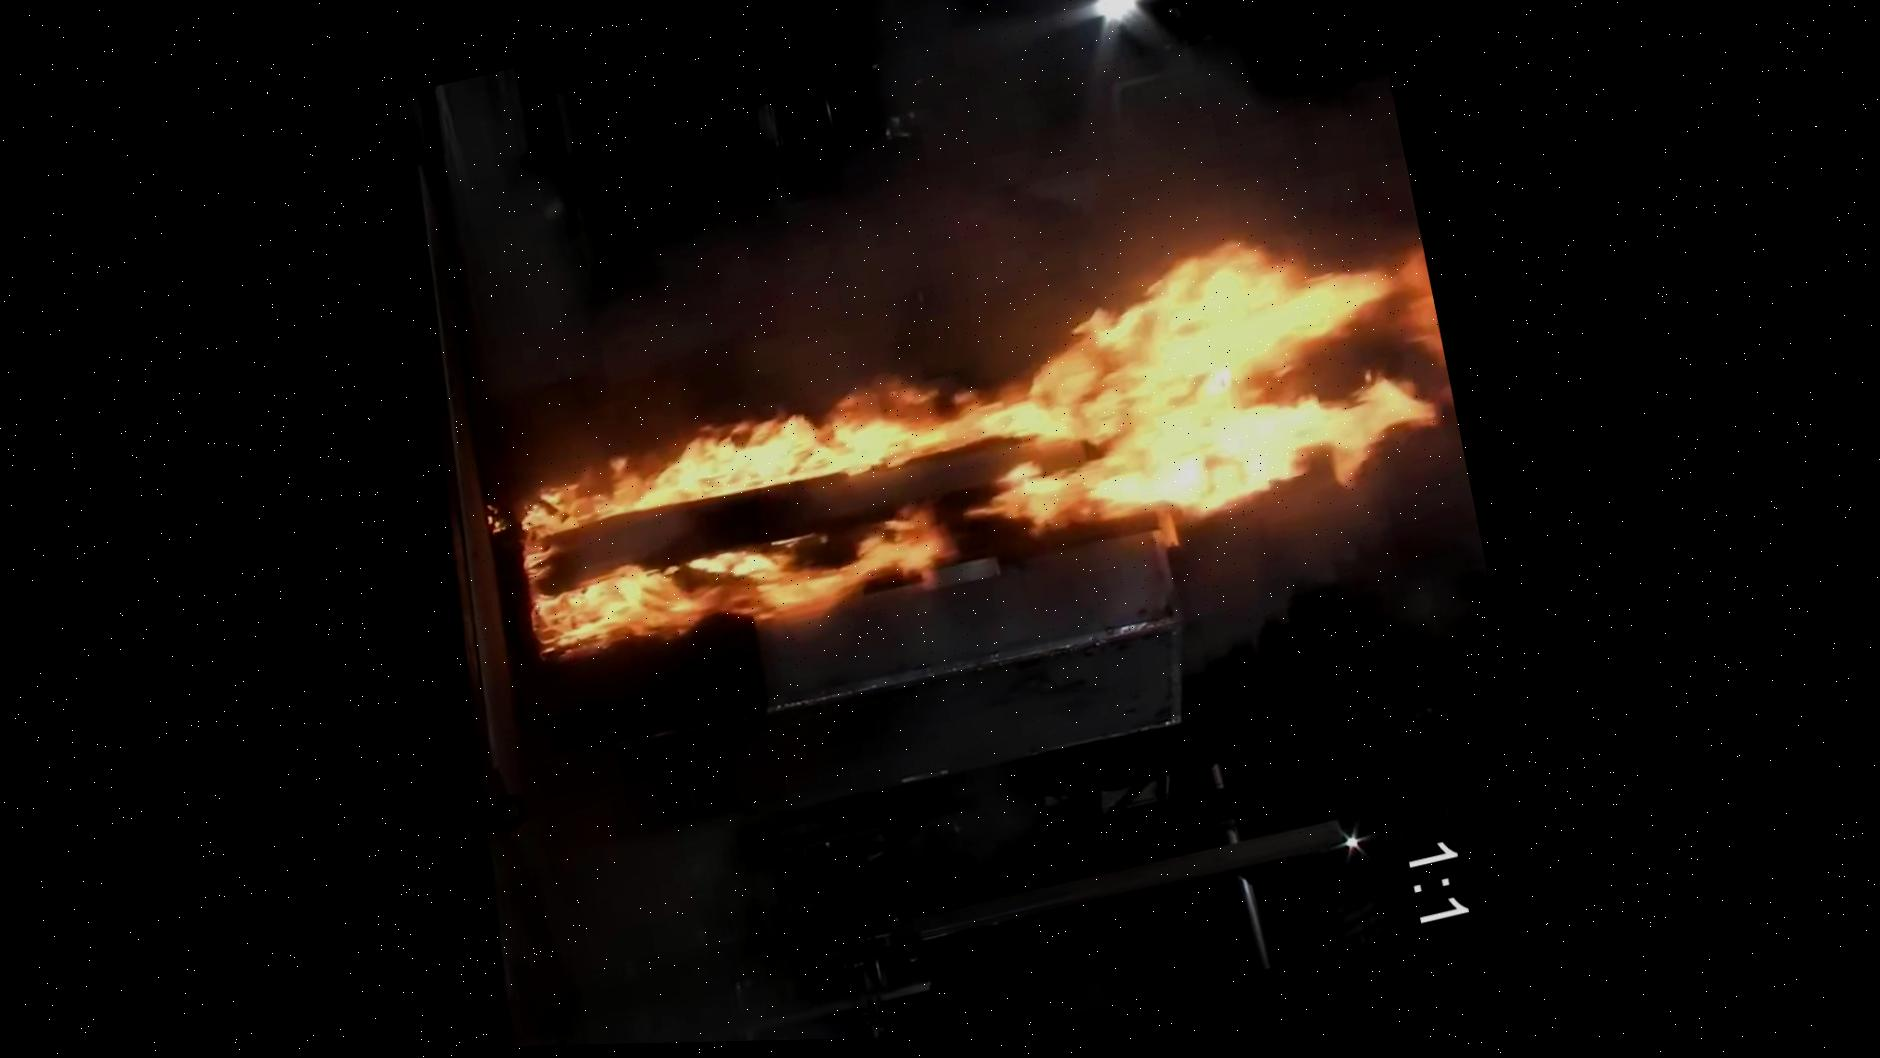fire: (456, 220, 1458, 677)
